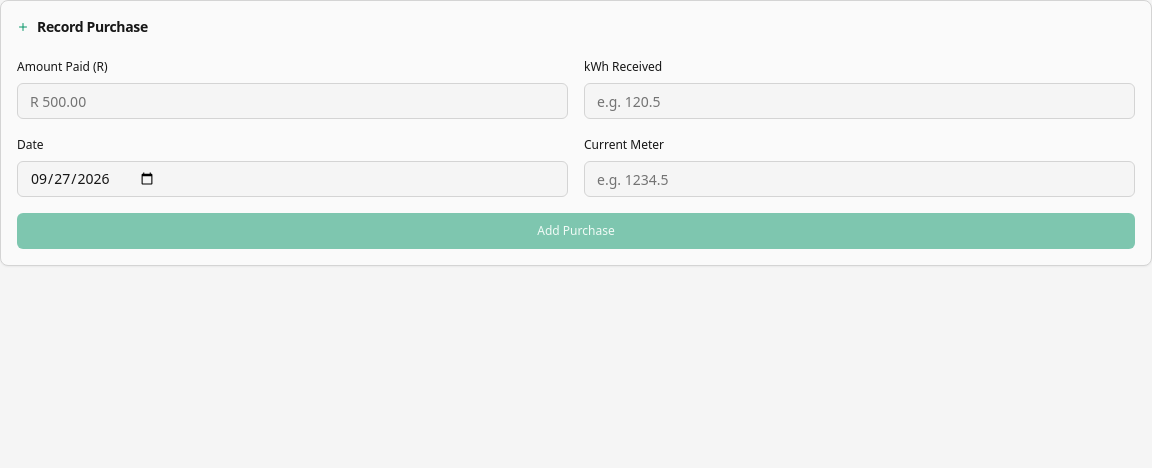
AddPurchaseForm › shows effective rate and tier when inputs are filled
Type "400" into the number field labelled "Amount Paid (R)". click: [292, 101]
box: [17,83,568,119]
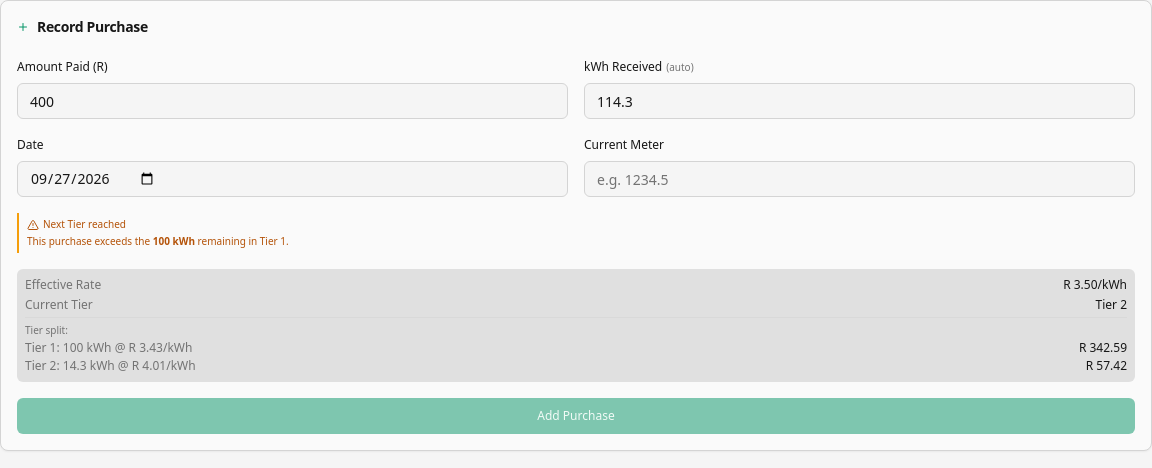
Replace the text in the number field labelled "kWh Received(auto)" with "100". click: [860, 101]
box: [584,83,1135,119]
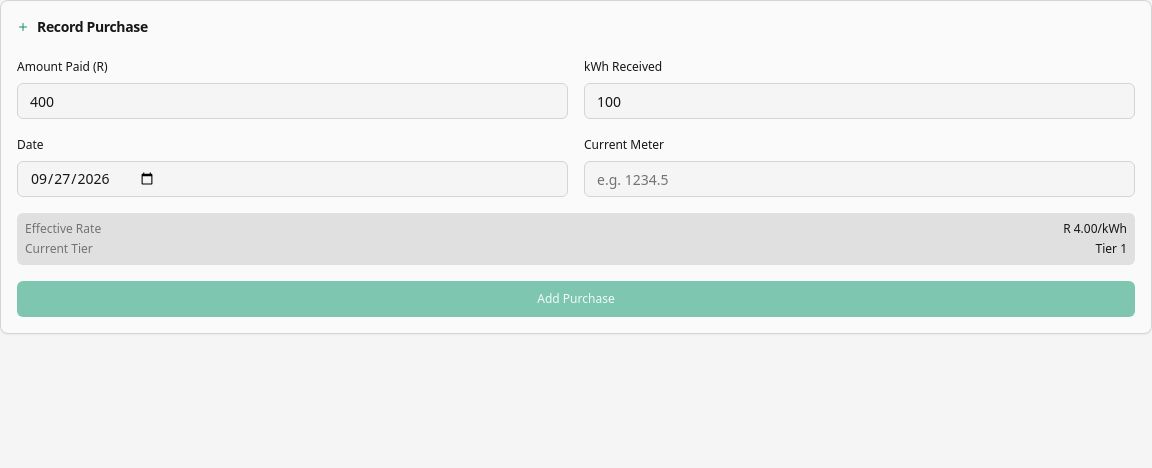
Now the text "Effective Rate" is shown, box [25,221,101,237]
Now the text "R 4.00/kWh" is shown, box [1063,221,1127,237]
Now the text "Tier 1" is shown, box [1096,241,1127,257]
